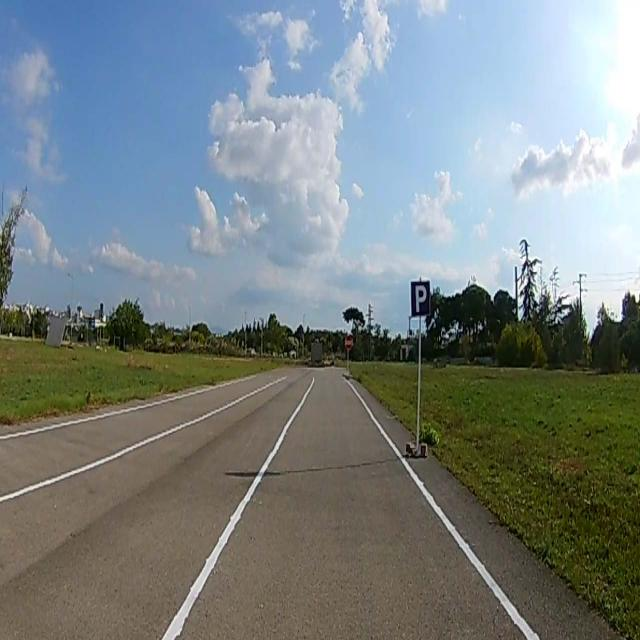park: (411, 281, 430, 316)
